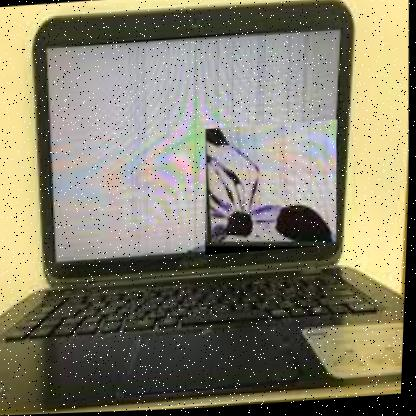crack: (202, 122, 342, 257)
spot: (204, 201, 275, 255), (286, 209, 328, 246), (308, 123, 340, 154)
